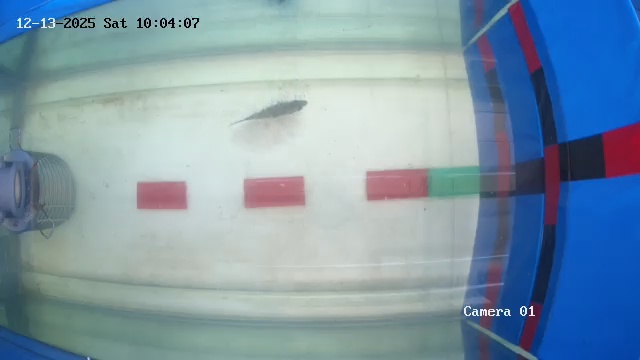fish: (249, 91, 308, 124)
